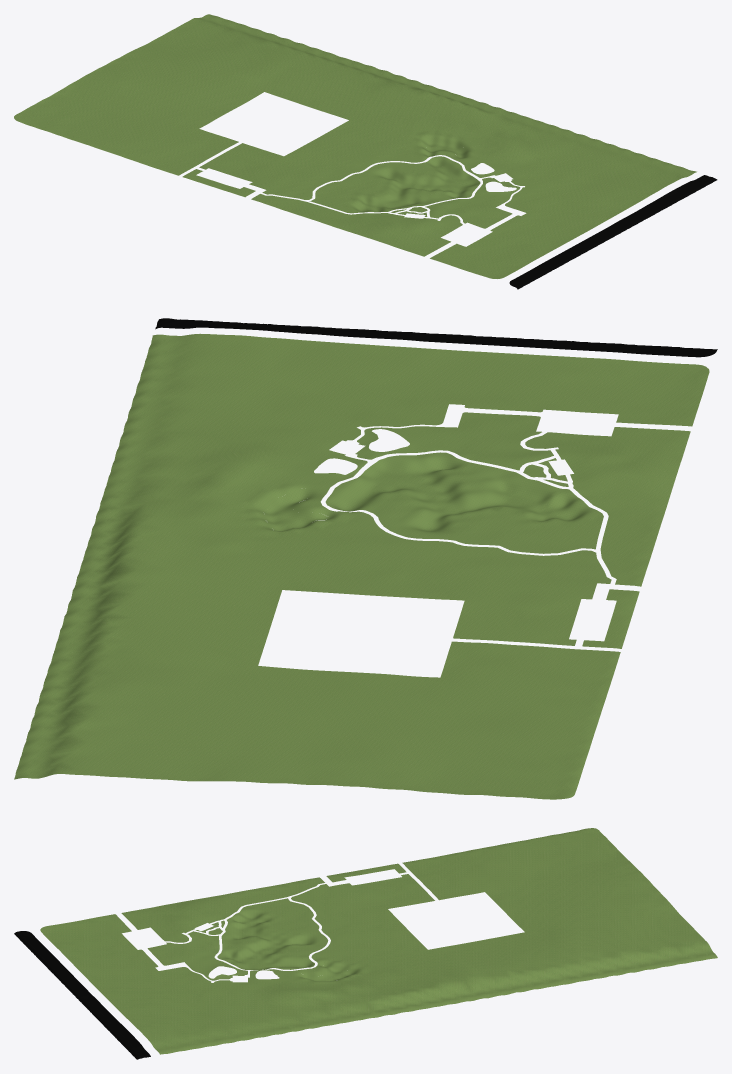
The model's file is landscape.glb.
The picture shows the model from 3 angles, top to bottom: view 1: azimuth 30°, elevation 25°; view 2: azimuth 150°, elevation 25°; view 3: azimuth 270°, elevation 25°; orthographic projection. The views are drawn at different scales.
Visible parts, largest first — view 1: landscape.003; view 2: landscape.003; view 3: landscape.003.
Boxes of the visible parts, x1=… form: landscape.003: x1=14, y1=14, x2=717, y2=289; landscape.003: x1=14, y1=318, x2=717, y2=799; landscape.003: x1=14, y1=828, x2=717, y2=1059.
Size of the model in its own units: 2249 by 42.16 by 2965.
2 materials, 1 textured.
